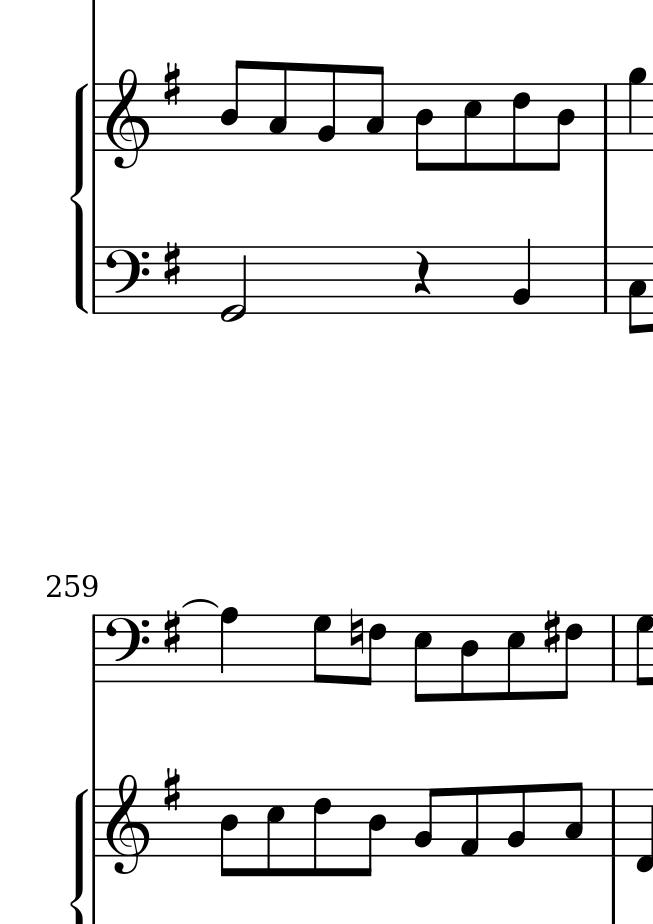2: (45, 574, 63, 599)
2_0: (219, 244, 248, 323)
4_2: (511, 237, 534, 316)
4_8: (218, 606, 240, 684)
4_9: (627, 66, 648, 153)
5: (64, 573, 80, 600)
8_1: (458, 785, 481, 859)
8_2: (315, 63, 339, 153), (413, 787, 441, 858), (506, 783, 527, 859)
8_3: (268, 62, 291, 154), (625, 244, 648, 335), (364, 64, 387, 153), (563, 780, 584, 858)
8_4: (220, 58, 250, 153), (358, 787, 388, 878), (547, 81, 576, 172), (412, 81, 435, 173), (458, 613, 481, 703), (218, 787, 239, 879)
8_5: (504, 612, 526, 702), (412, 613, 433, 705), (264, 787, 285, 879), (461, 82, 482, 173)
8_6: (555, 612, 586, 703), (509, 81, 531, 174), (310, 787, 332, 879), (361, 614, 388, 688)
8_7: (312, 614, 335, 686), (635, 612, 653, 689)
9: (80, 573, 99, 599)
Brace: (68, 79, 90, 315)
Fclef: (101, 612, 150, 684), (103, 244, 151, 315)
Gclef: (103, 66, 151, 171), (105, 772, 149, 875)
Natural: (348, 606, 365, 655)
Rests4: (411, 249, 432, 295)
Sharp: (160, 59, 184, 106), (160, 239, 183, 288), (161, 608, 183, 657), (542, 607, 562, 655), (162, 766, 182, 813)
Single_barline: (598, 247, 614, 312), (88, 85, 103, 151), (607, 791, 622, 857), (598, 85, 613, 150), (88, 791, 103, 855), (88, 247, 102, 313), (87, 616, 101, 681), (607, 616, 621, 680)
Slur: (183, 598, 220, 609)
